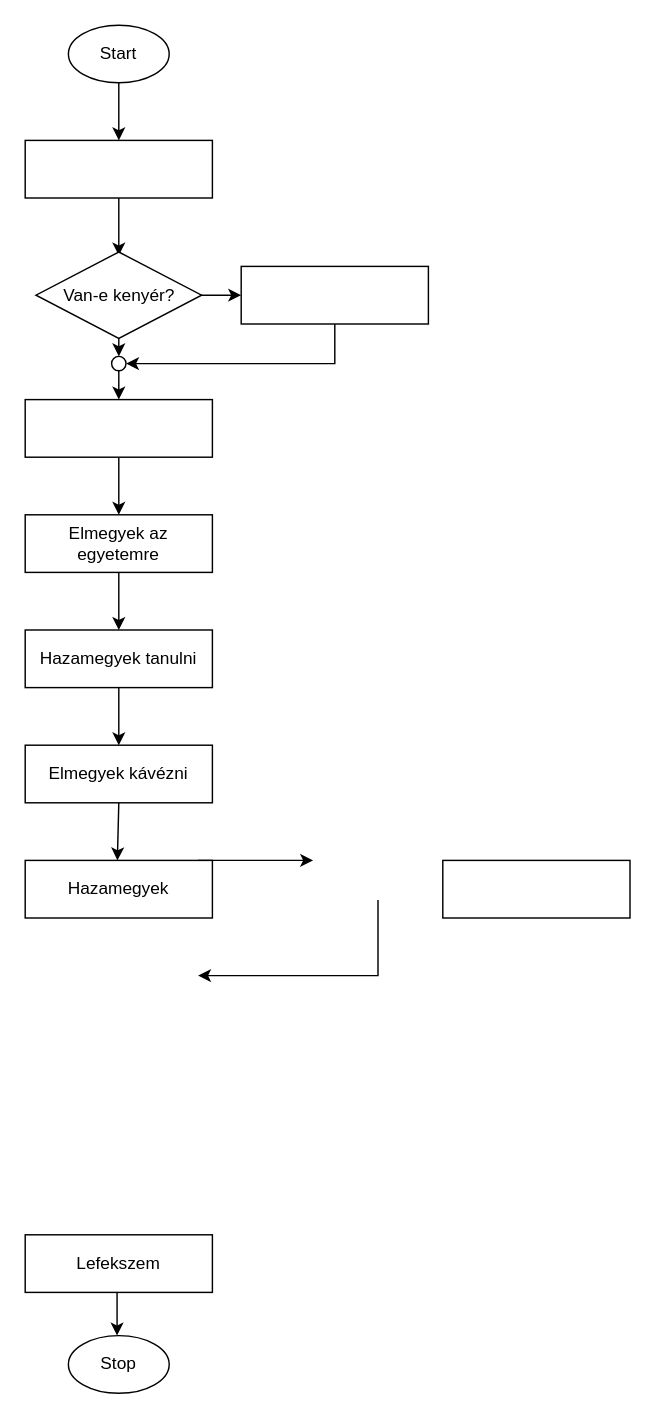
Some shapes in this 655 by 1418 pixel diagram are drawn without their labels. The centre of each missing label's shape, as x and y in pixels:
"Kedd reggel felkelek" belongs at point 118,168.
"Kenyér vásárlása" belongs at point 334,294.
"Megreggelizek" belongs at point 118,427.
"Megvacsorázom" belongs at point 535,888.
